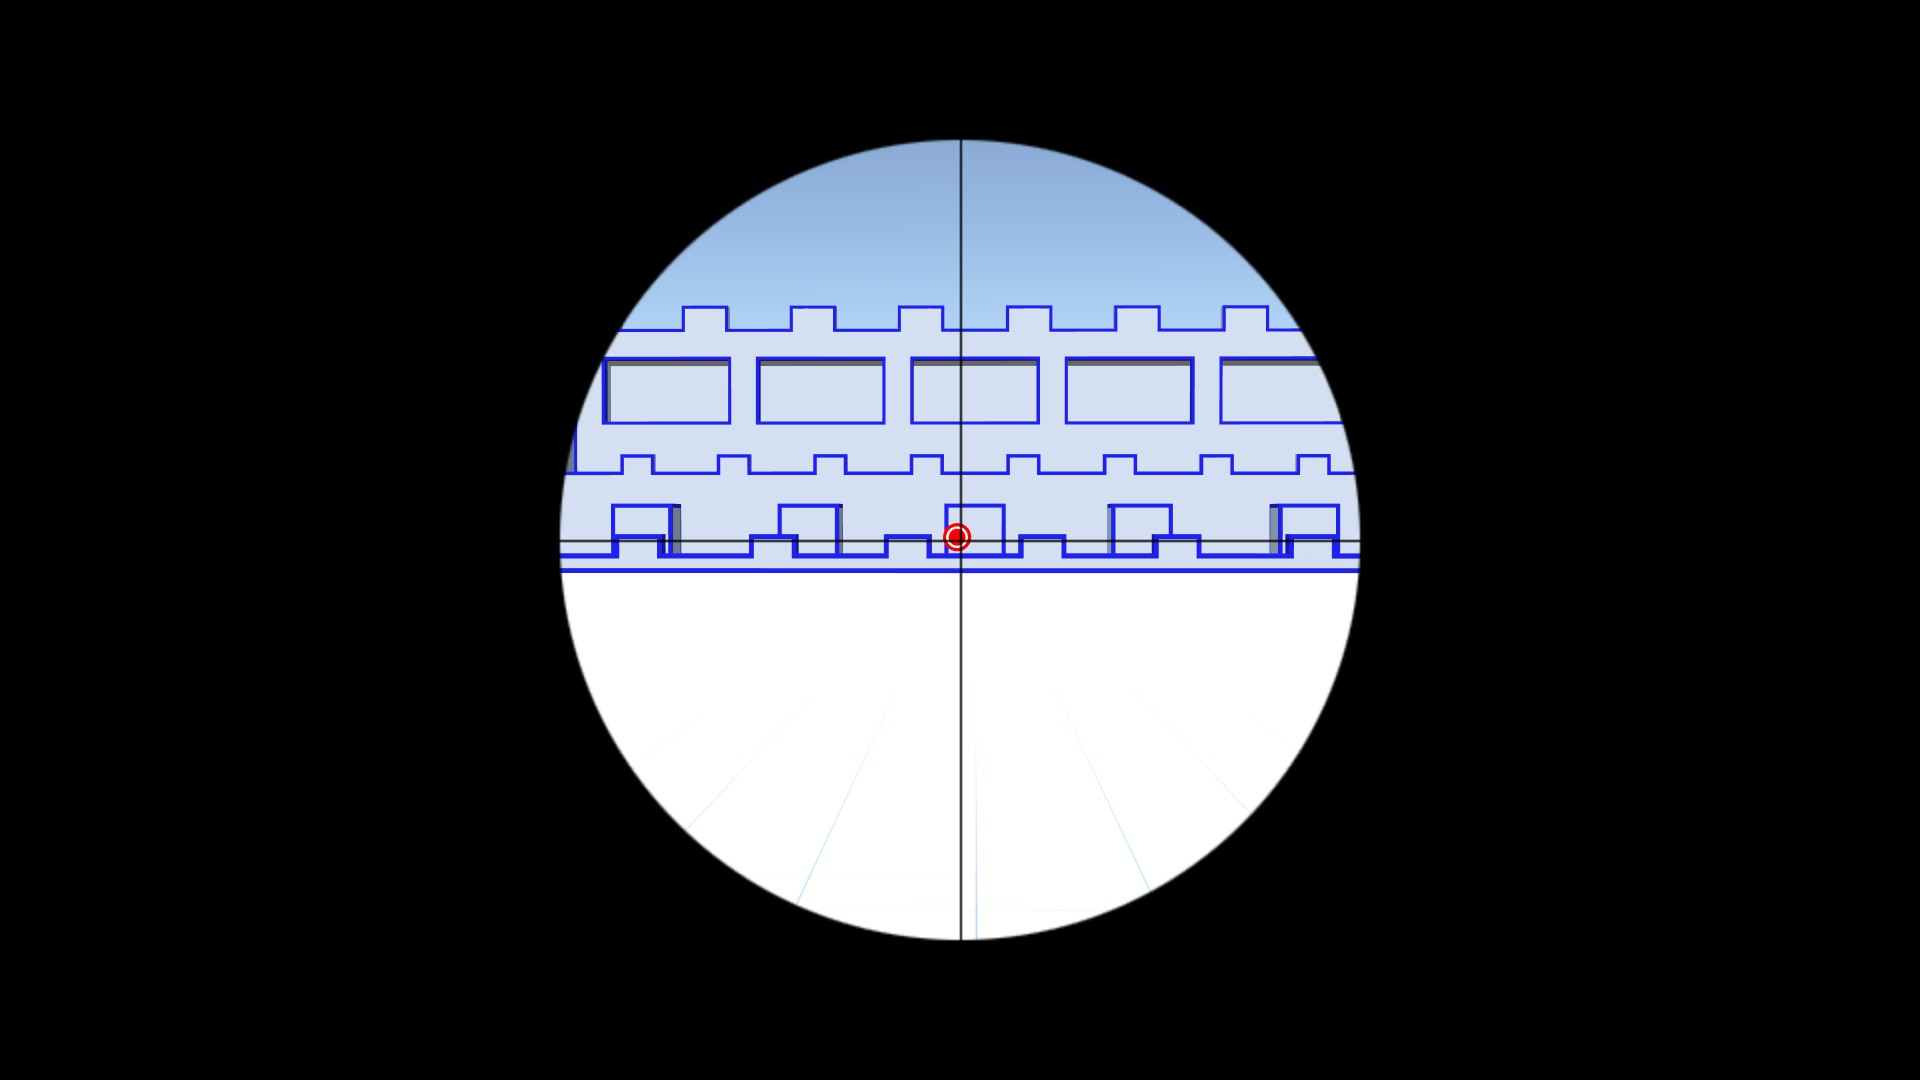target: (942, 522, 973, 550)
